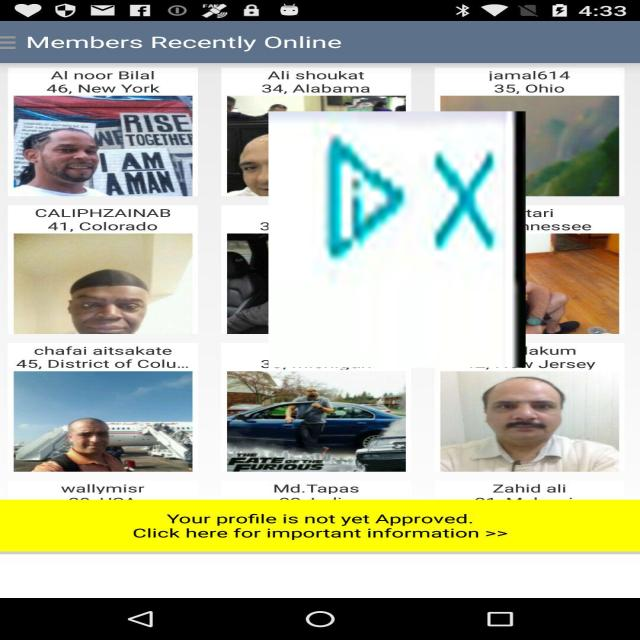sneaking: (268, 111, 526, 368)
